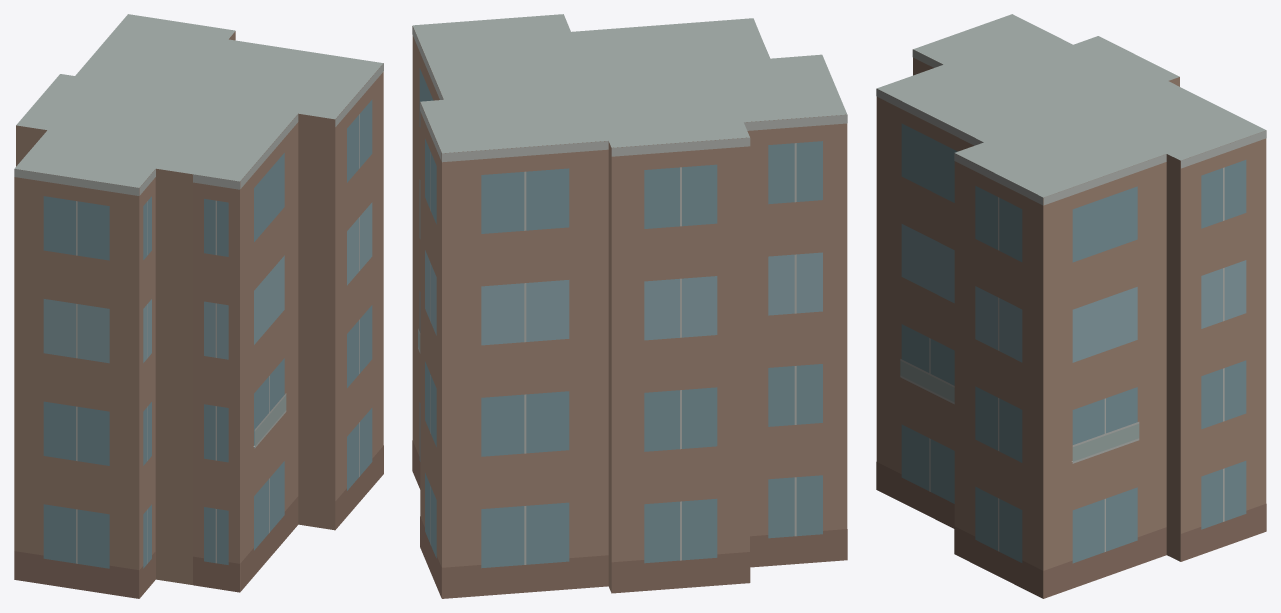
Rendered from residential-85b7e5f0-ca71-4e55-a724-6edf5a0c5b58.glb.
The picture shows the model from 3 angles, left to right: view 1: azimuth 30°, elevation 25°; view 2: azimuth 150°, elevation 25°; view 3: azimuth 270°, elevation 25°; orthographic projection. The views are drawn at different scales.
Parts seen in each view (by area): view 1: residential-85b7e5f0-ca71-4e55-a724-6edf5a0c5b58.tmp; view 2: residential-85b7e5f0-ca71-4e55-a724-6edf5a0c5b58.tmp; view 3: residential-85b7e5f0-ca71-4e55-a724-6edf5a0c5b58.tmp.
Boxes of the visible parts, left/top/right/bottom form: residential-85b7e5f0-ca71-4e55-a724-6edf5a0c5b58.tmp: left=14, top=14, right=383, bottom=598; residential-85b7e5f0-ca71-4e55-a724-6edf5a0c5b58.tmp: left=412, top=14, right=847, bottom=598; residential-85b7e5f0-ca71-4e55-a724-6edf5a0c5b58.tmp: left=876, top=14, right=1266, bottom=598.
Size of the model in its own units: 11.98 by 12.2 by 10.75.
